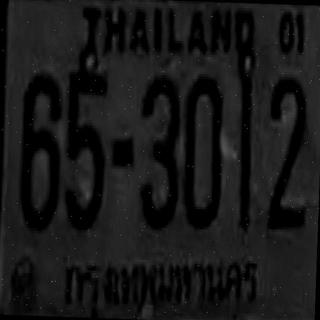N00: (181, 74, 223, 227)
N01: (232, 70, 254, 228)
N02: (266, 74, 308, 228)
N03: (137, 73, 179, 227)
N05: (62, 66, 107, 228)
N06: (17, 70, 61, 229)
P04: (60, 252, 268, 320)
